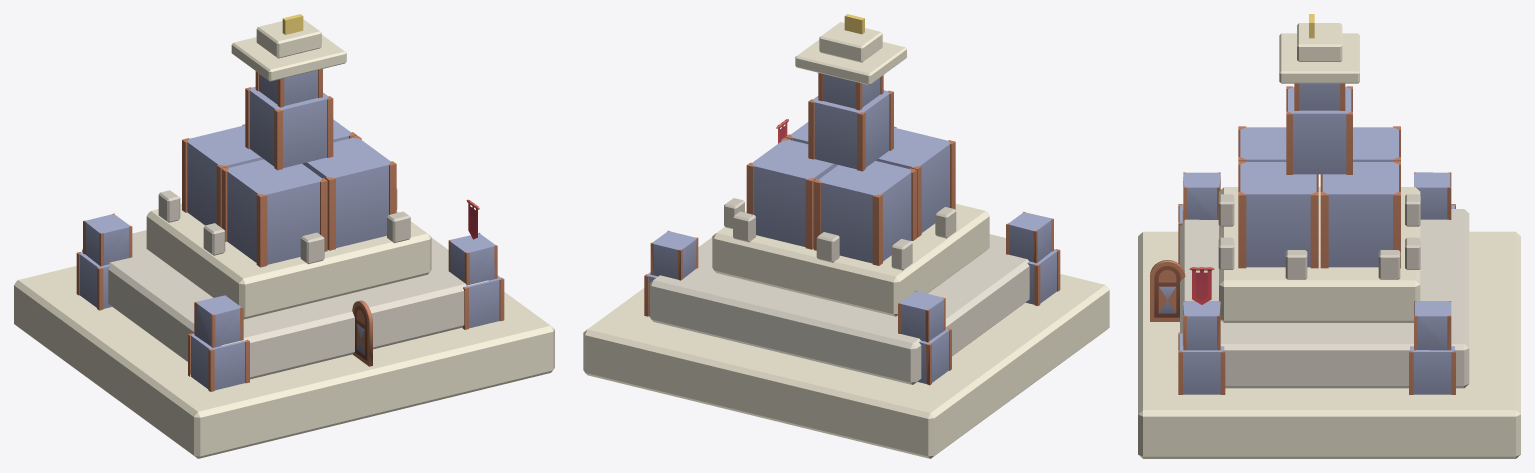
File: south_american-keep.glb
The picture shows the model from 3 angles, left to right: view 1: azimuth 30°, elevation 25°; view 2: azimuth 150°, elevation 25°; view 3: azimuth 270°, elevation 25°; orthographic projection. The views are drawn at different scales.
Visible parts, largest first — view 1: keep; view 2: keep; view 3: keep.
Boxes of the visible parts, left/top/right/bottom form: keep: left=14, top=14, right=554, bottom=458; keep: left=583, top=14, right=1109, bottom=458; keep: left=1138, top=14, right=1520, bottom=458.
Size of the model in its own units: 2.84 by 2.55 by 2.52.
24 materials, 18 textured.
